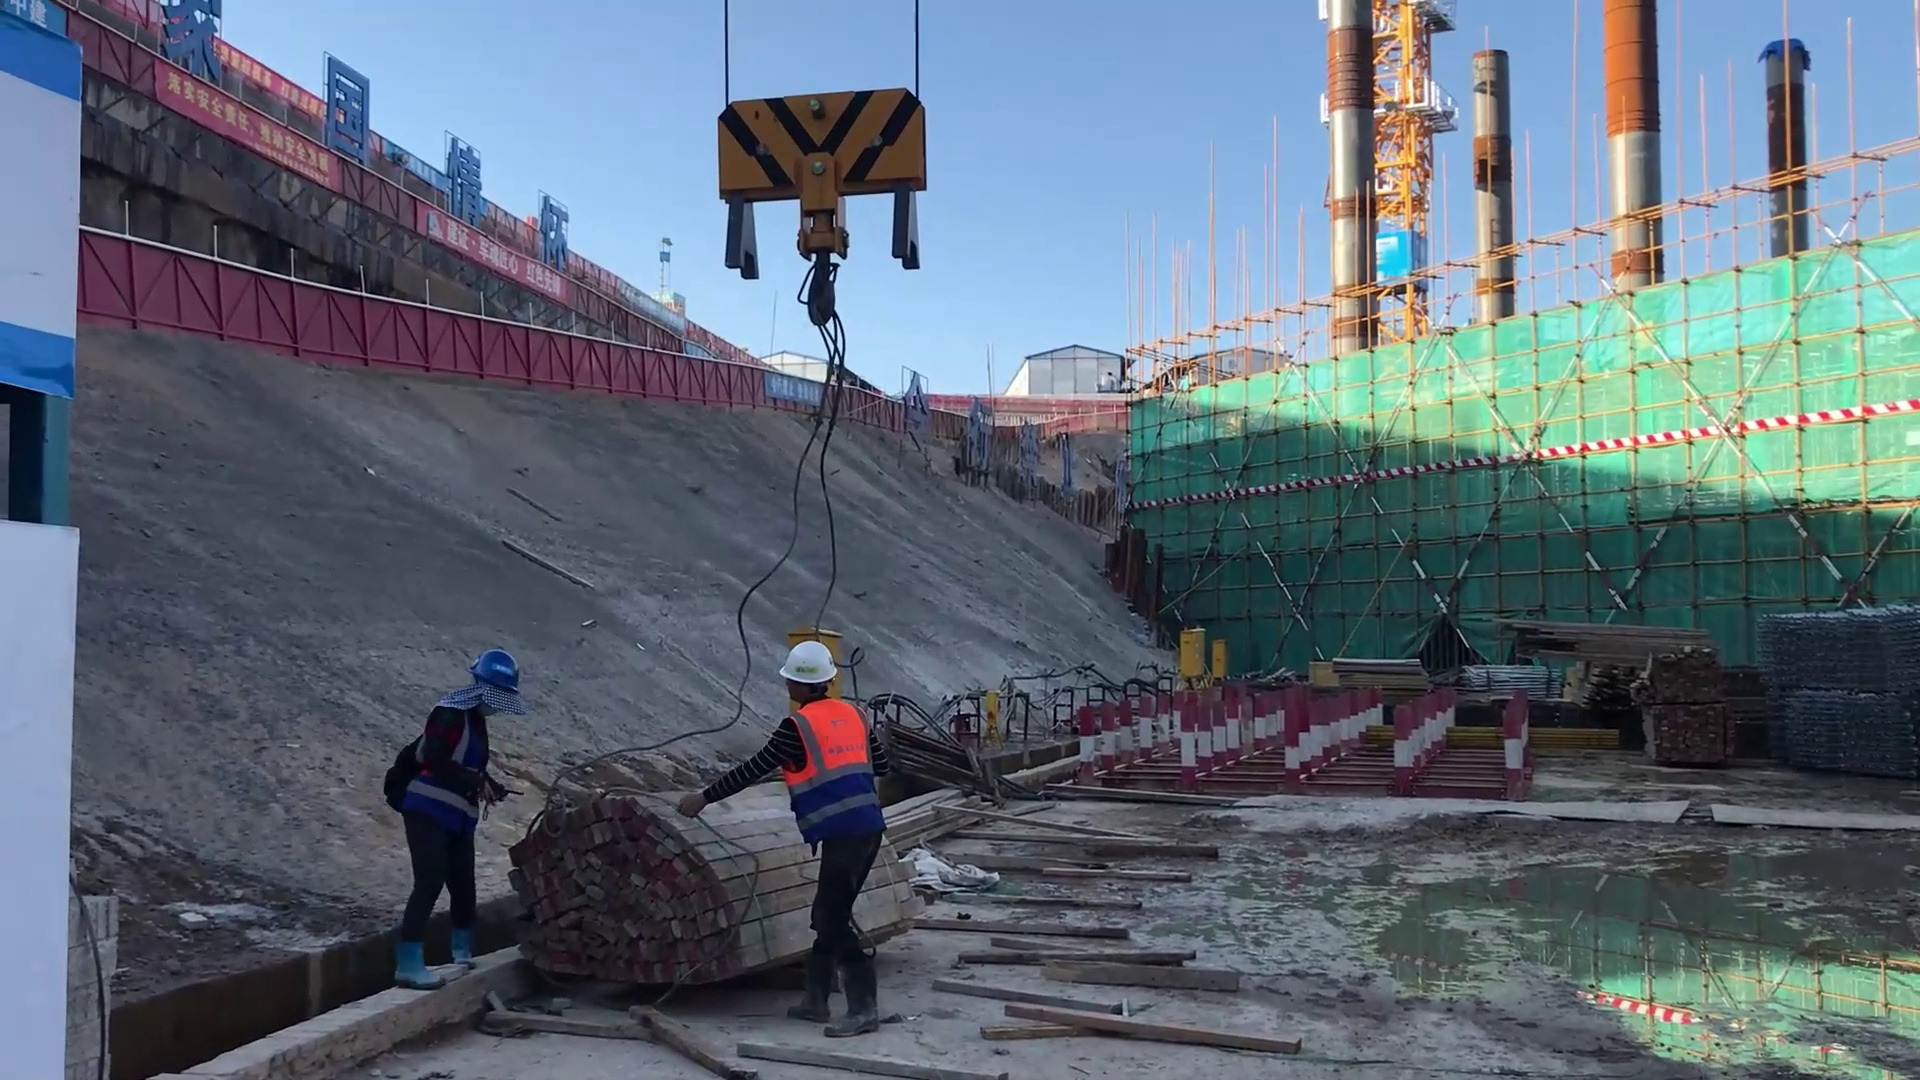ebox: (1173, 625, 1207, 684), (1209, 638, 1228, 680)
fence: (74, 245, 359, 382), (354, 306, 656, 399), (649, 352, 791, 404)
helmet: (459, 630, 538, 722), (772, 627, 834, 692)
hook: (701, 90, 930, 285)
person: (674, 636, 880, 1034), (380, 638, 521, 989)
scaffold: (1758, 600, 1910, 770)
vest: (778, 701, 879, 834)
wood: (952, 767, 1288, 1055), (526, 798, 685, 997), (1481, 602, 1706, 675)
